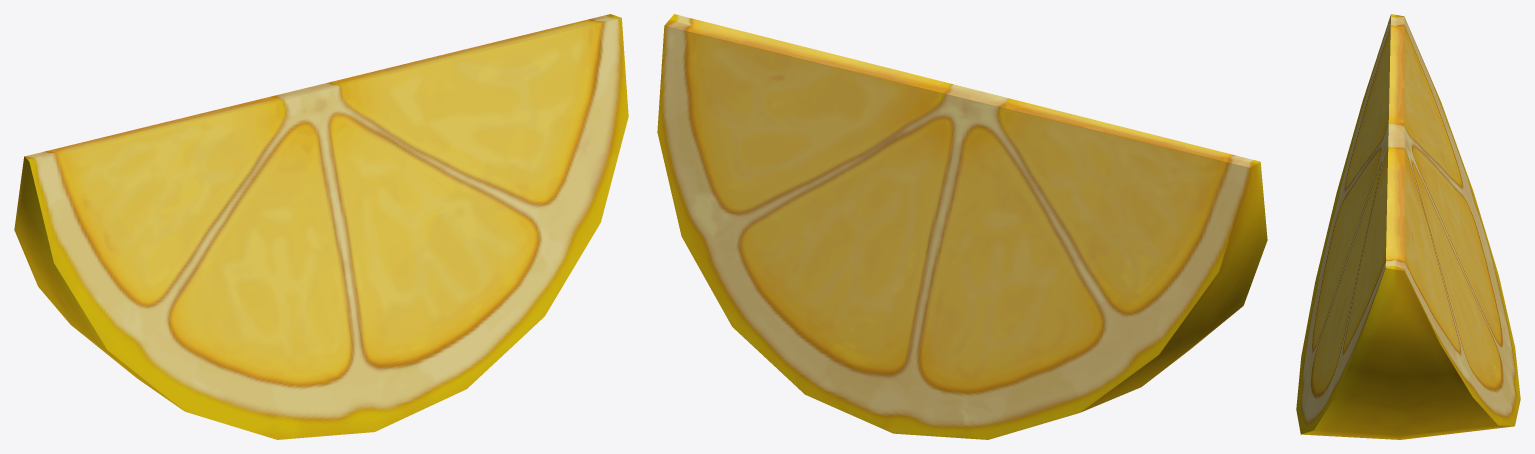
Rendered from SM_LemonSlice.fbx.
3 renders of one model, left to right at view 1: azimuth 30°, elevation 25°; view 2: azimuth 150°, elevation 25°; view 3: azimuth 270°, elevation 25°, orthographic. The views are drawn at different scales.
Parts seen in each view (by area): view 1: SM_LemonSlice; view 2: SM_LemonSlice; view 3: SM_LemonSlice.
Part boxes in pixels (x1,y1,x2,y2): SM_LemonSlice: [14, 14, 628, 439]; SM_LemonSlice: [657, 14, 1267, 439]; SM_LemonSlice: [1296, 14, 1520, 439].
Size of the model in its own units: 10.81 by 5.35 by 3.96.
